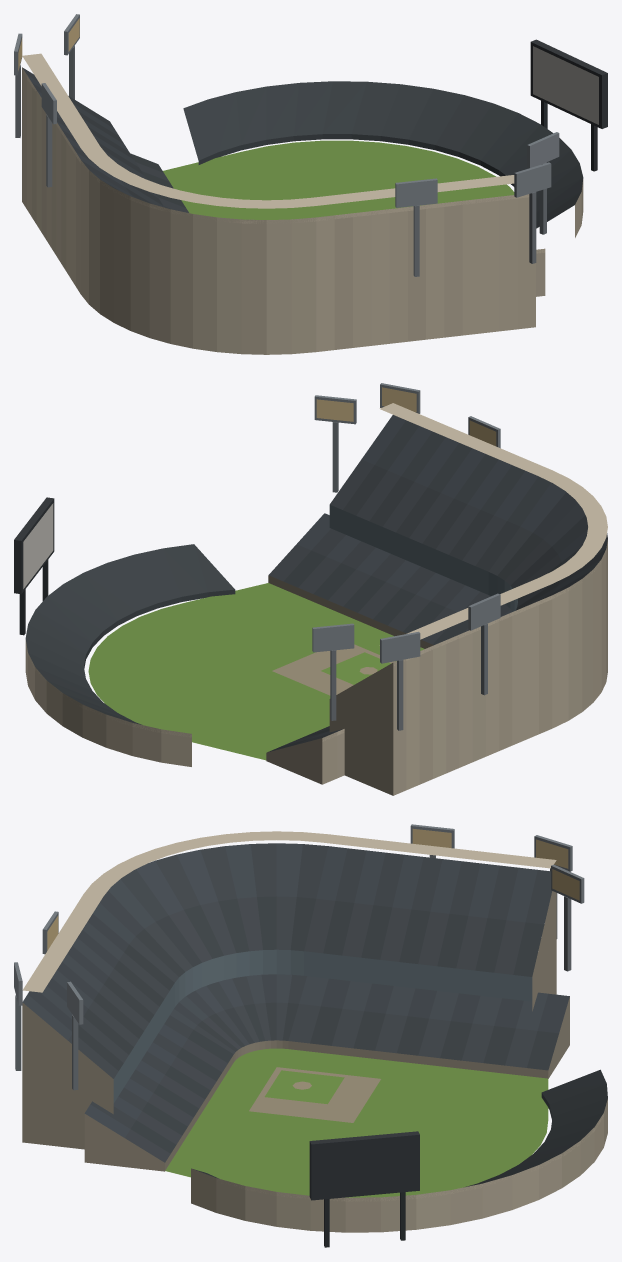
3 views of the same model, one above another, from view 1: azimuth 30°, elevation 25°; view 2: azimuth 150°, elevation 25°; view 3: azimuth 270°, elevation 25° (orthographic). The views are drawn at different scales.
Parts seen in each view (by area): view 1: bronx-ballpark-lod1; view 2: bronx-ballpark-lod1; view 3: bronx-ballpark-lod1.
Boxes of the visible parts, box(x1,y1,x2,y2) form: bronx-ballpark-lod1: box(14, 14, 607, 354); bronx-ballpark-lod1: box(14, 383, 607, 795); bronx-ballpark-lod1: box(14, 824, 607, 1247).
Size of the model in its own units: 261 by 76.8 by 246.
